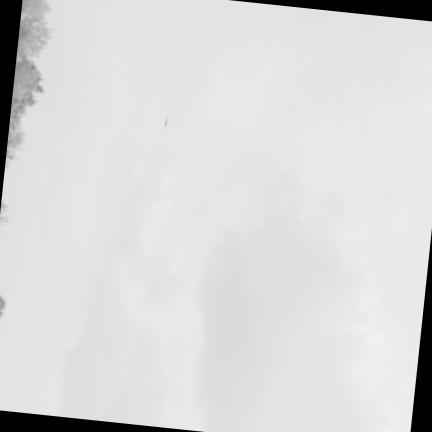Shahed: (163, 117, 168, 131)
